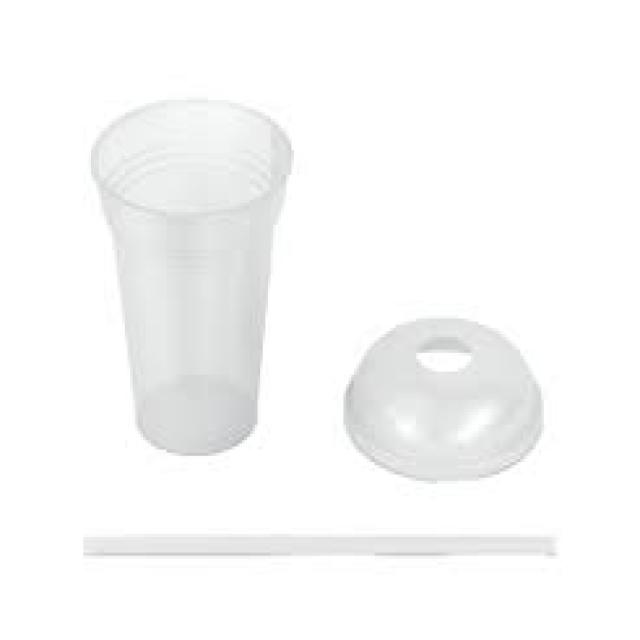cup: (61, 63, 310, 476)
